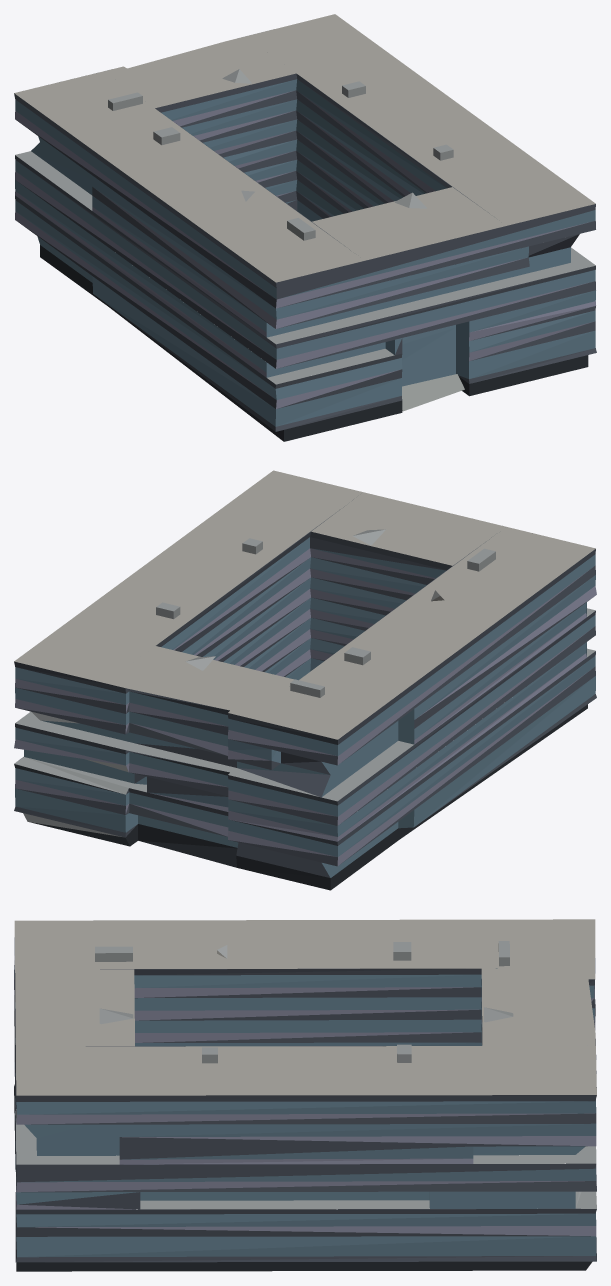
File: kpn-teleport.lod2.glb
The picture shows the model from 3 angles, top to bottom: view 1: azimuth 30°, elevation 25°; view 2: azimuth 150°, elevation 25°; view 3: azimuth 270°, elevation 25°; orthographic projection. The views are drawn at different scales.
Parts seen in each view (by area): view 1: lod2; view 2: lod2; view 3: lod2.
Boxes of the visible parts, x1,y1,x2,y2 form: lod2: (14, 14, 596, 441); lod2: (14, 470, 596, 890); lod2: (14, 919, 596, 1271).
Bounding box in the file's own units: 60.63 × 30.25 × 84.59.
